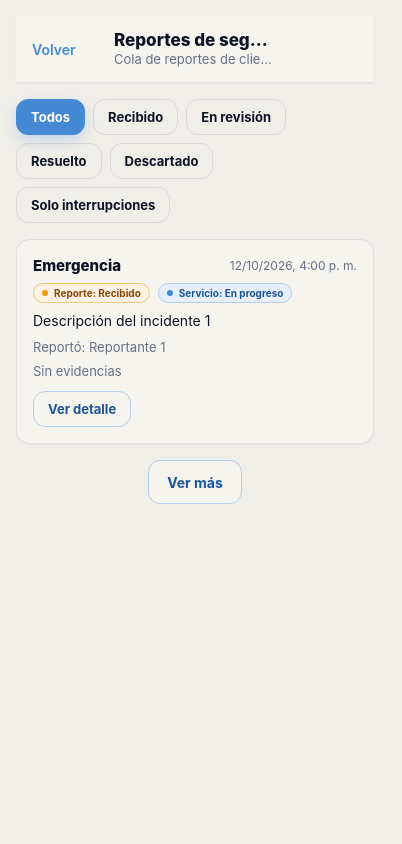
Test: AdminSecurityReportsScreen — filtros y paginacion › ver mas agrega la pagina siguiente sin perder la primera
This screenshot has width=402, height=844.
Check: the text "Descripción del incidente 1" is shown, box [33,312,210,329]
Click the text "Ver más" at (195, 482), box [167,474,223,490]
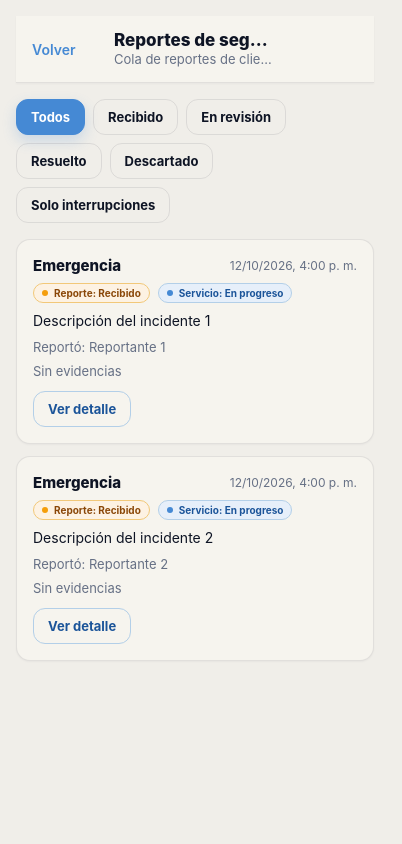
Check: the text "Descripción del incidente 1" is shown, box [33,312,210,329]
Check: the text "Descripción del incidente 2" is shown, box [33,529,213,546]
Check: the text "Ver más" is gone
